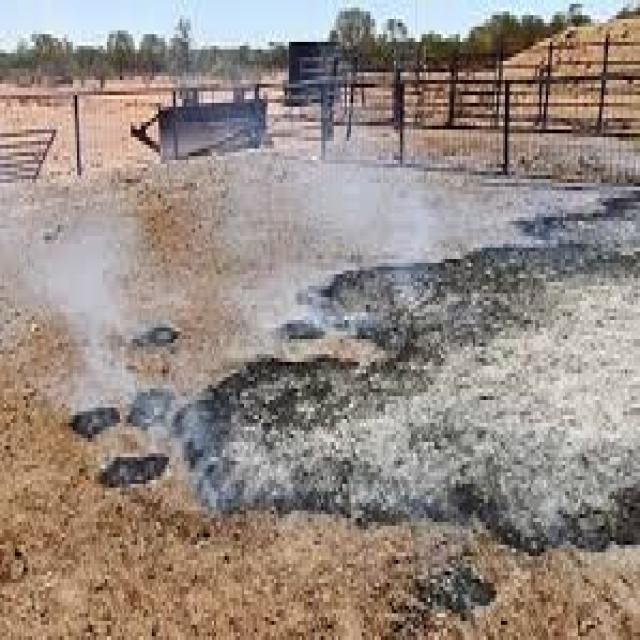Smoke: (229, 110, 562, 350), (0, 178, 209, 456)
